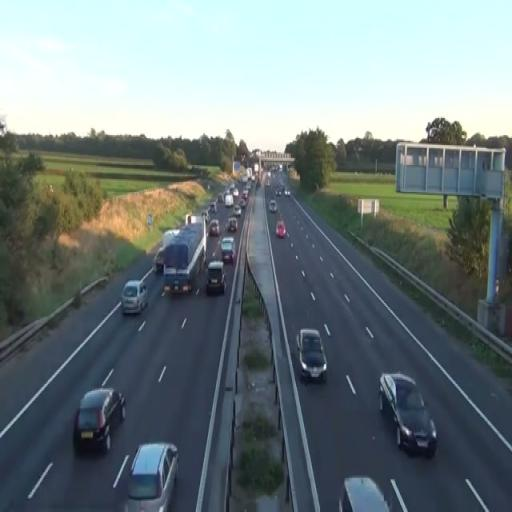Car: (378, 372, 437, 460), (124, 442, 179, 511), (73, 388, 127, 454), (338, 475, 391, 512), (296, 328, 328, 383), (121, 279, 148, 315), (205, 260, 227, 296), (221, 237, 236, 264), (276, 219, 286, 239), (209, 220, 220, 237), (228, 218, 238, 233), (224, 193, 234, 207)
Truck: (162, 216, 206, 295)
